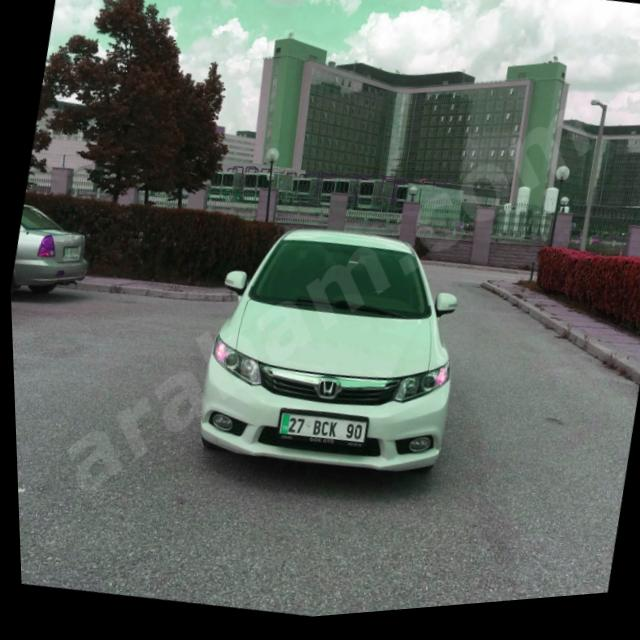license_plate: (275, 412, 364, 454)
